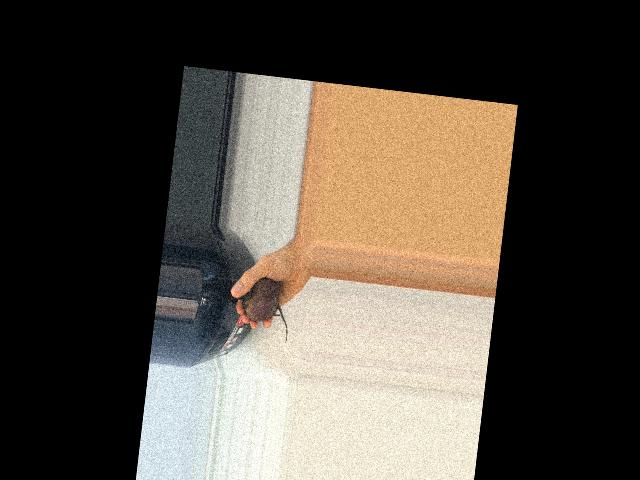beet: (233, 275, 293, 343)
